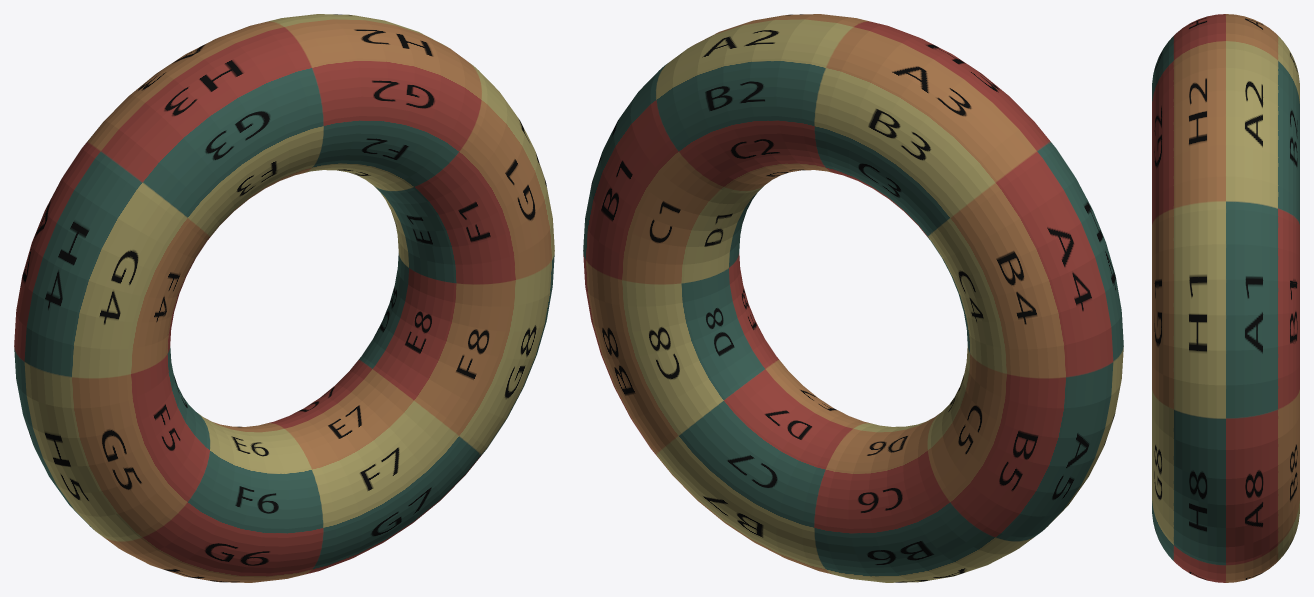
The model's file is texture_torus_R14_r18.glb.
3 views of the same model, side by side, from view 1: azimuth 30°, elevation 25°; view 2: azimuth 150°, elevation 25°; view 3: azimuth 270°, elevation 25° (orthographic). The views are drawn at different scales.
Parts seen in each view (by area): view 1: world; view 2: world; view 3: world.
Boxes of the visible parts, bbox=[...] form: world: bbox=[14, 14, 554, 582]; world: bbox=[583, 14, 1123, 582]; world: bbox=[1152, 14, 1299, 582].
Size of the model in its own units: 26.13 by 26.08 by 6.79.
Materials: 1 (1 with a texture image).
